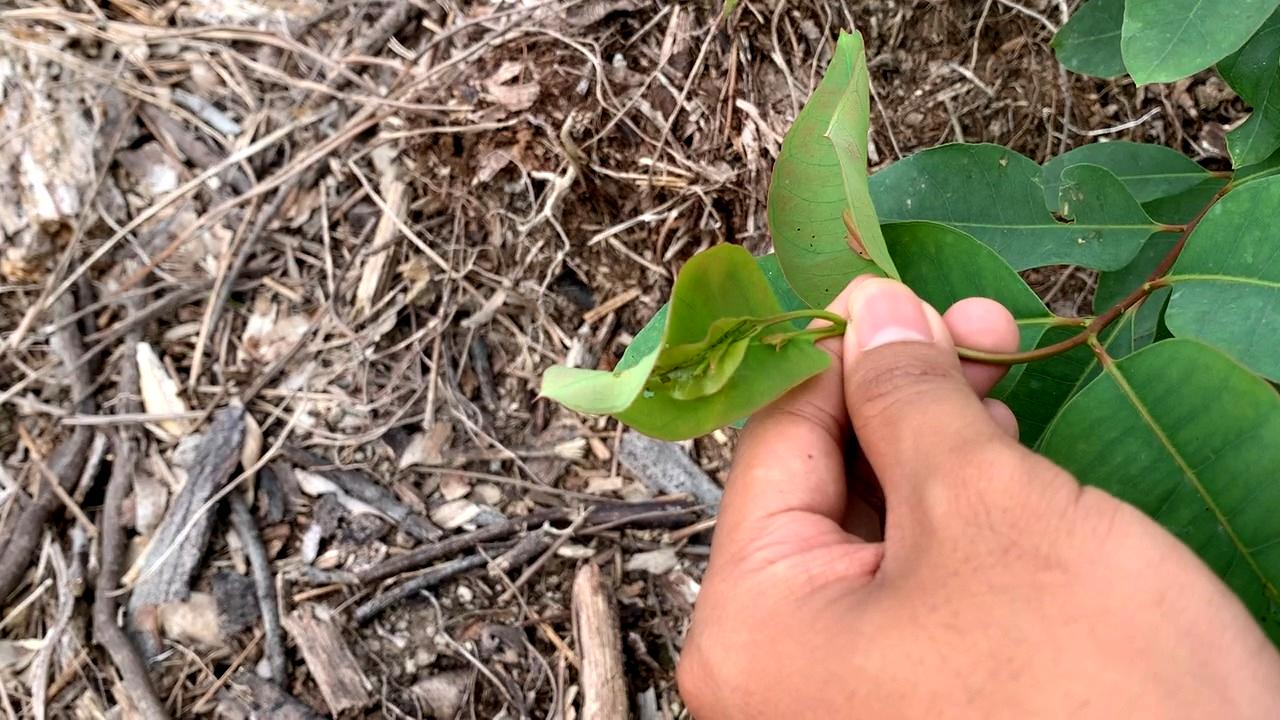Leaf Roller - Leaf: (546, 240, 830, 439)
